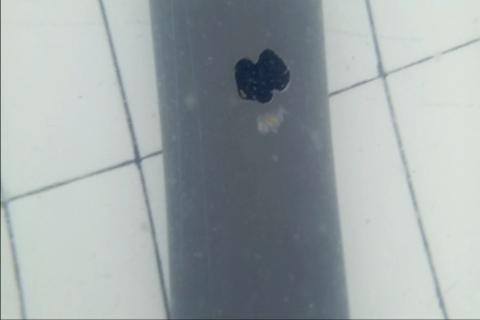kebocoran: (231, 48, 290, 106)
